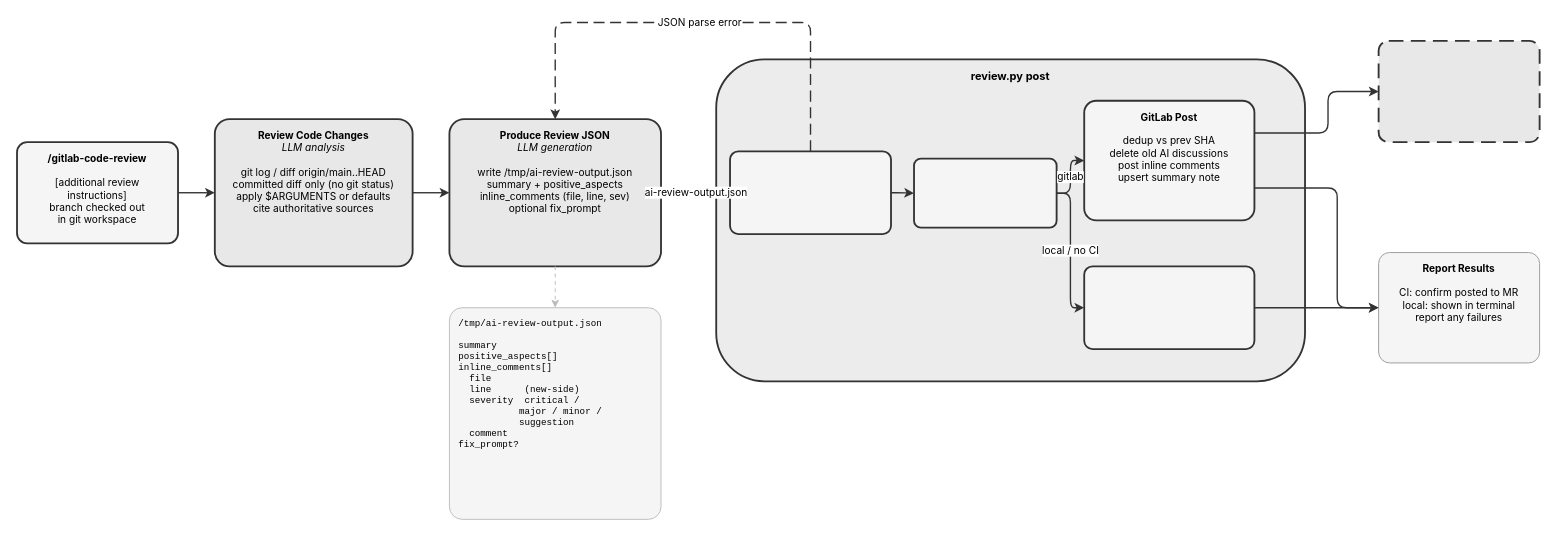
Some shapes in this 1556 by 536 pixel diagram are drawn without their labels. Here are the shapes that lost their labels. From the top down, the centre of each, then its label:
At (1458,91): "GitLab MR API /api/v4 (PRIVATE-TOKEN) notes & discussions inline + summary".
At (810,192): "Parse & Validate strict JSON schema chill-mode filter (drop suggestions)".
At (985,192): "Detect Platform GitLab CI / GitHub / local".
At (1169,307): "Local Display (fallback) formatted terminal output".
